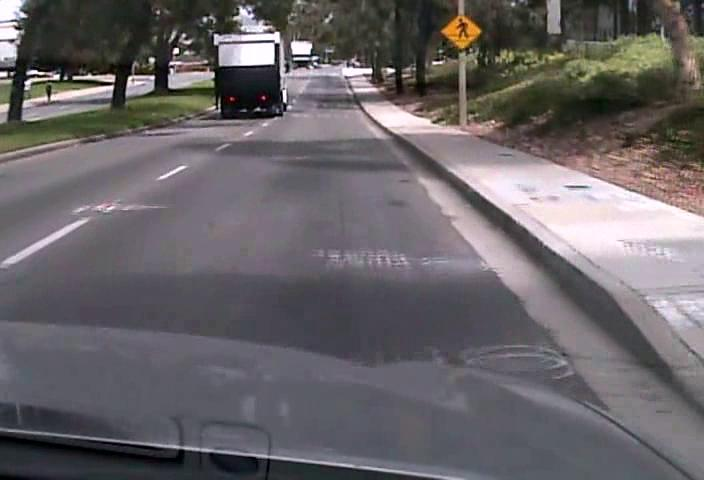pedestrianCrossing: (439, 12, 482, 49)
